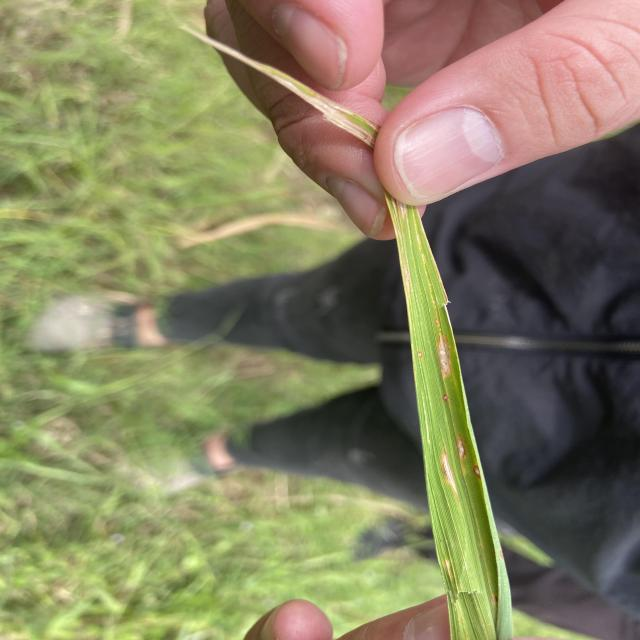Dao on: (440, 452, 460, 503), (436, 331, 453, 379), (456, 433, 467, 461), (472, 465, 482, 479), (442, 393, 449, 401), (418, 352, 422, 358), (435, 319, 439, 325)
